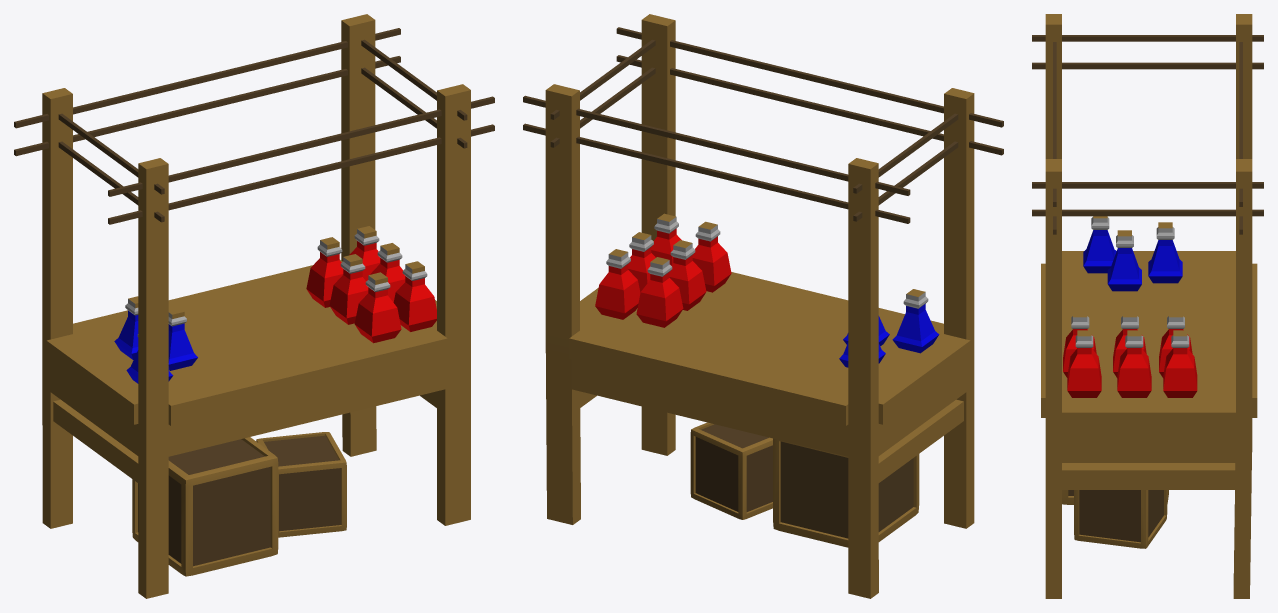
Rendered from SmallPotionStand.fbx.
The picture shows the model from 3 angles, left to right: view 1: azimuth 30°, elevation 25°; view 2: azimuth 150°, elevation 25°; view 3: azimuth 270°, elevation 25°; orthographic projection.
Parts seen in each view (by area): view 1: pCube98; view 2: pCube98; view 3: pCube98.
Part boxes in pixels (x1,y1,x2,y2): pCube98: [14, 14, 494, 598]; pCube98: [523, 14, 1003, 598]; pCube98: [1032, 14, 1263, 598].
Bounding box in the file's own units: 2.74 × 2.93 × 1.44.
